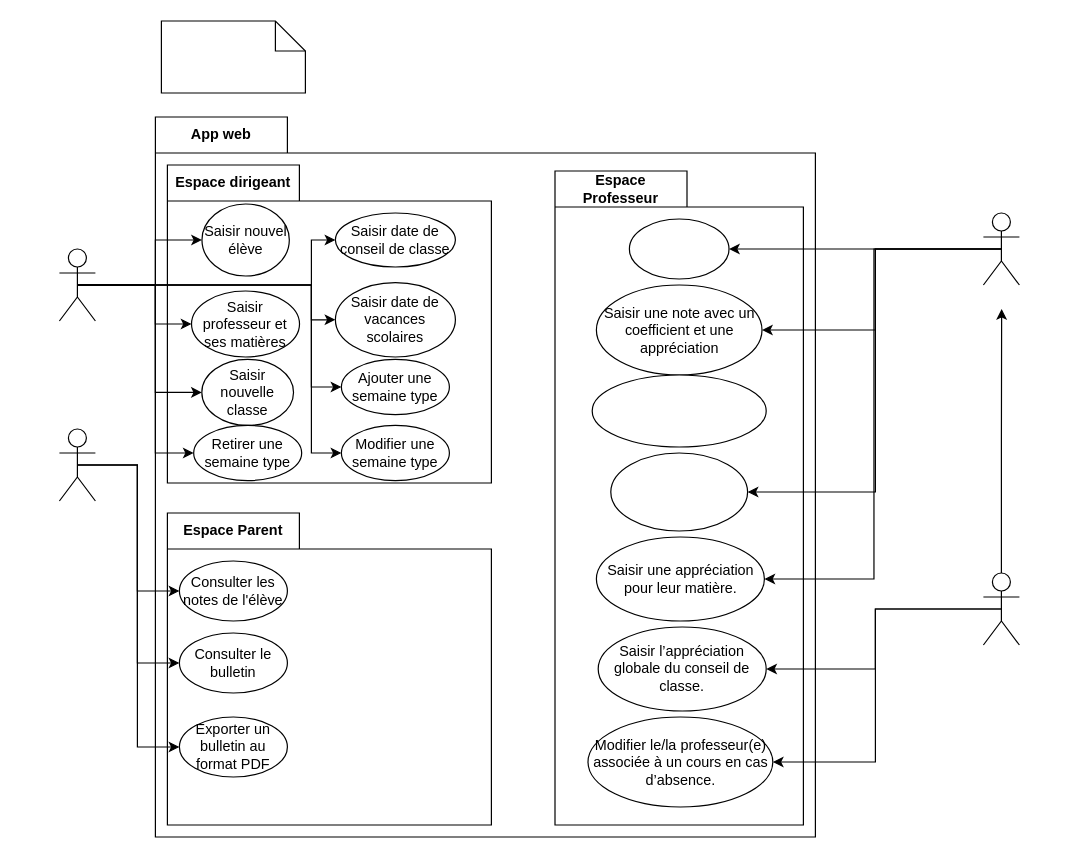
This 1086x858 diagram has some shape labels left out. The shapes that lost their labels are listed below. From the top down, each one's centre as x and y in pixels, then its label:
At (232,56): "Tous les CU nécessitent d'être authentifié".
At (678,248): "Lister les notes d'un élève".
At (1000,248): "Professeur".
At (76,284): "Équipe Dirigeante".
At (678,410): "Saisir une appréciation pour un conseil de classe".
At (76,464): "Parent d'élève".
At (679,491): "Saisir une appréciation pour un élève".
At (1000,608): "Professeur Principal".
